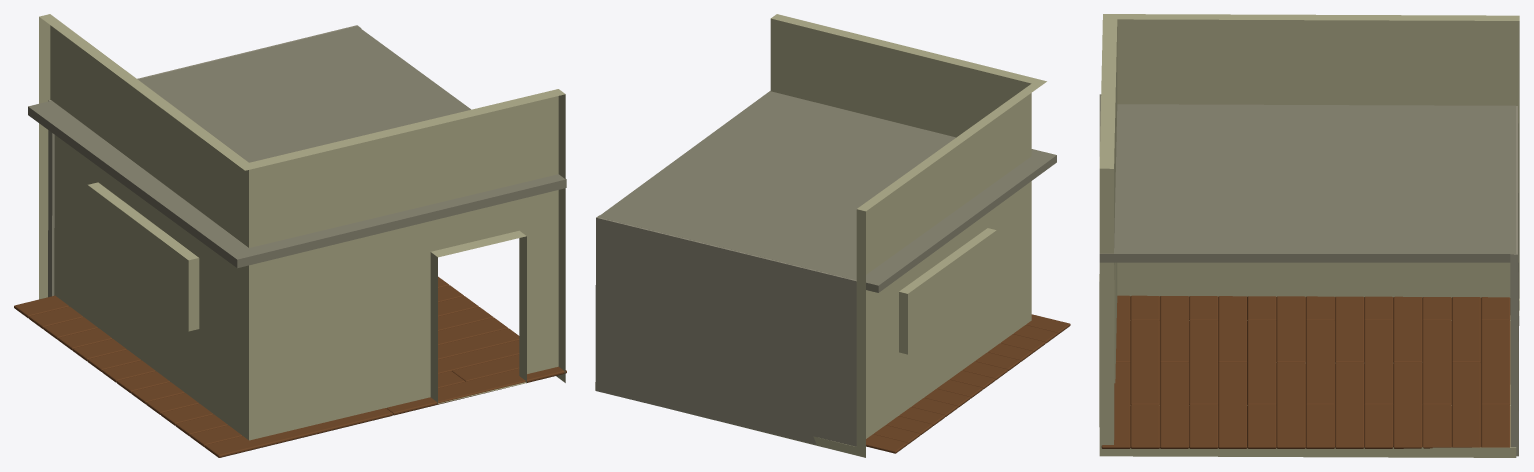
3 views of the same model, side by side, from view 1: azimuth 30°, elevation 25°; view 2: azimuth 150°, elevation 25°; view 3: azimuth 270°, elevation 25° (orthographic). The views are drawn at different scales.
Visible parts, largest first — view 1: Cube, Plane.001, Plane.002, Plane.004; view 2: Cube, Plane.004, Plane.001, Plane.002; view 3: Plane.001, Cube, Plane.002, Plane.004.
Boxes of the visible parts, x1,y1,x2,y2 form: Cube: (39, 14, 565, 440); Plane.001: (28, 26, 566, 268); Plane.002: (14, 276, 566, 457); Plane.004: (48, 25, 361, 297); Cube: (595, 14, 1046, 457); Plane.004: (595, 215, 856, 446); Plane.001: (598, 91, 1056, 292); Plane.002: (866, 314, 1070, 453); Plane.001: (1099, 94, 1515, 262); Cube: (1099, 14, 1519, 457); Plane.002: (1101, 295, 1510, 448); Plane.004: (1510, 106, 1518, 456).
Size of the model in its own units: 1669 by 1321 by 1749.
